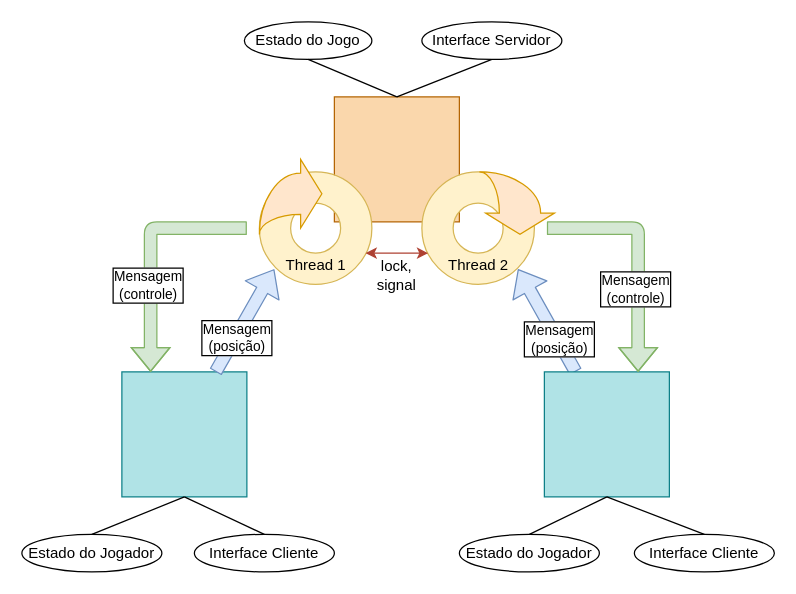
The diagram is 796 pixels wide and 594 high, and some of its shapes have lost their labels. The shapes that lost their labels are listed below. From the top down, each one's centre as x and y in pixels, then its label:
the point at 396,159: Servidor
the point at 184,434: Cliente 1
the point at 606,434: Cliente 2
